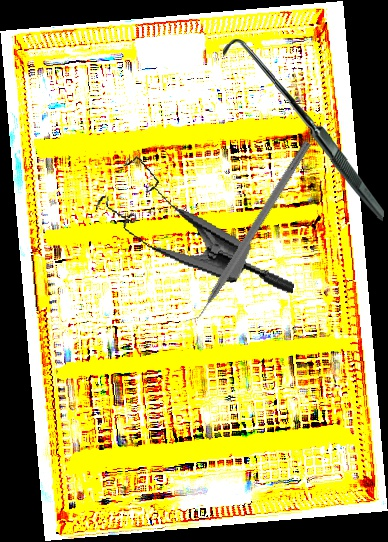Chopper: (179, 133, 312, 330)
Hook Surgical: (220, 38, 387, 223)
Speculum: (86, 149, 314, 297)
